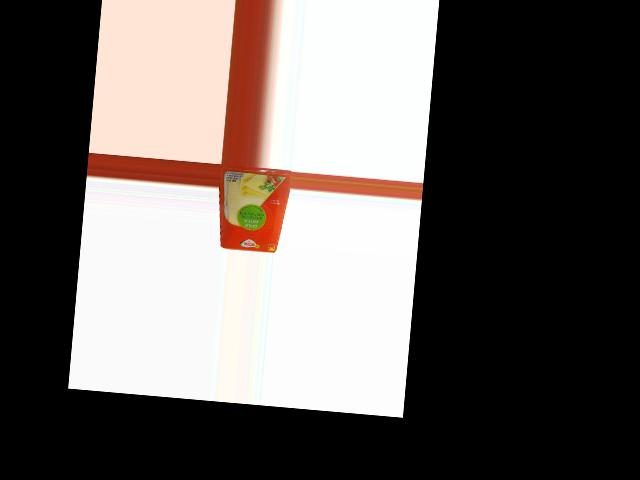cheese: (215, 164, 292, 253)
